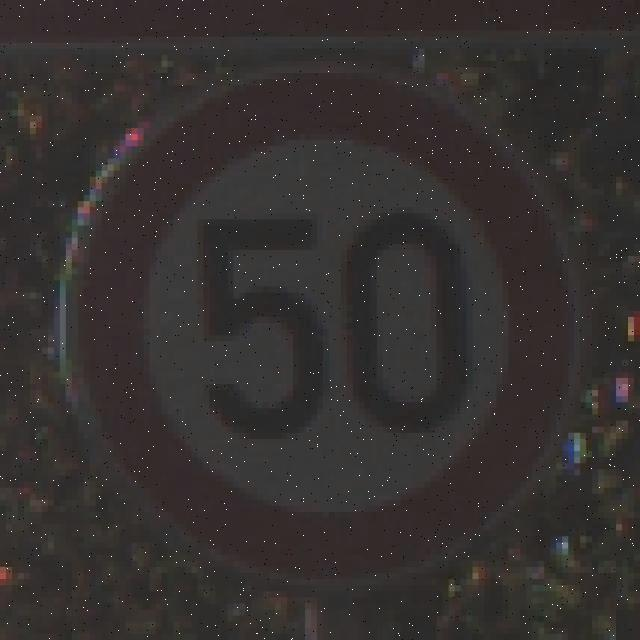Ograniczenie predkosci do 50: (66, 72, 573, 585)
